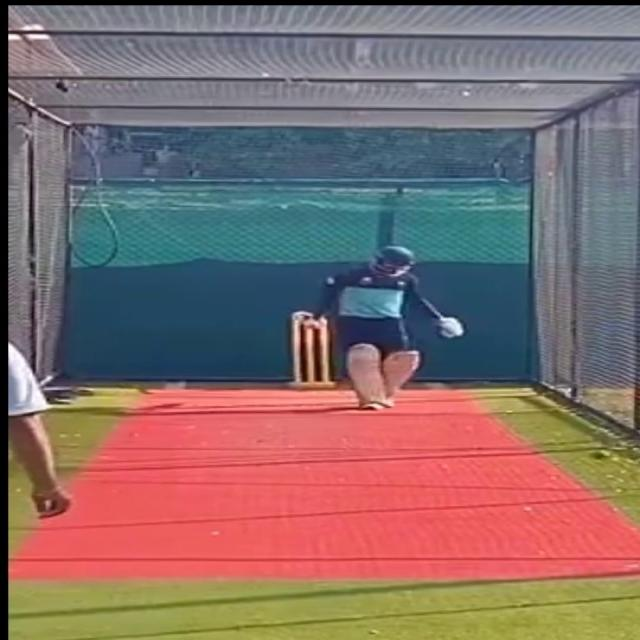ball: (586, 448, 609, 461)
stump: (282, 312, 337, 391)
